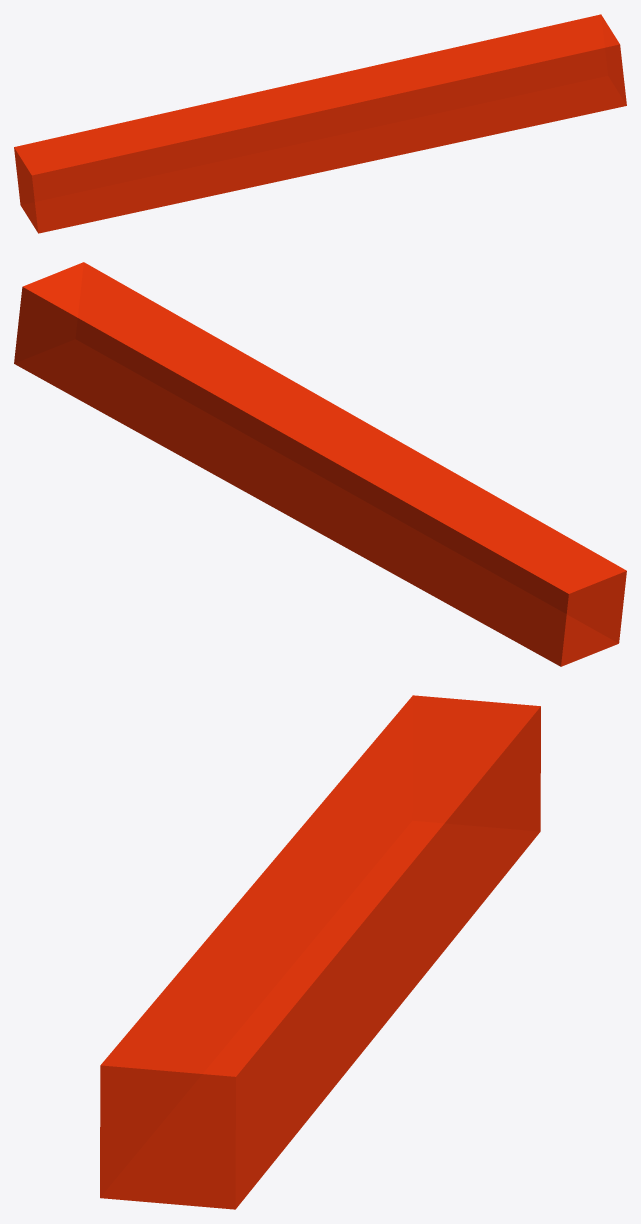
The model's file is Event_421364160_EErechit_38.fbx.
3 views of the same model, one above another, from view 1: azimuth 30°, elevation 25°; view 2: azimuth 150°, elevation 25°; view 3: azimuth 270°, elevation 25° (orthographic). The views are drawn at different scales.
Parts seen in each view (by area): view 1: Model; view 2: Model; view 3: Model.
Part boxes in pixels (x1,y1,x2,y2): Model: [14, 14, 626, 233]; Model: [14, 262, 626, 666]; Model: [100, 695, 540, 1209].
Bounding box in the file's own units: 0.6736 × 0.1513 × 0.2419.
